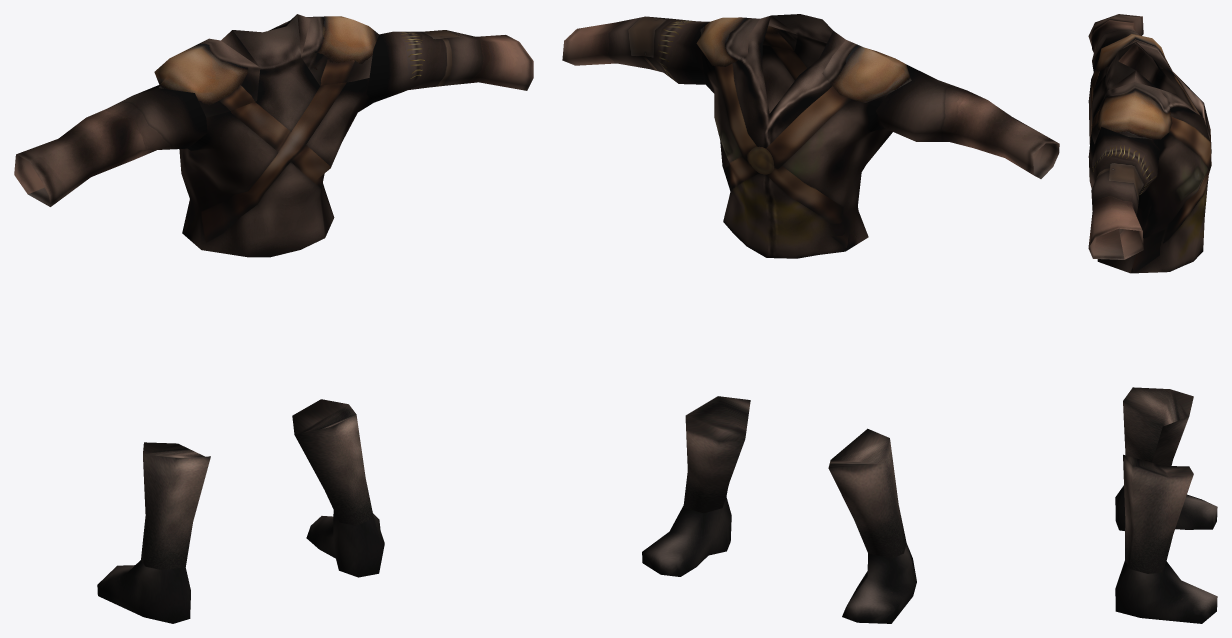
The model's file is Armor_male_cmbleatherJacket.obj.
3 views of the same model, side by side, from view 1: azimuth 30°, elevation 25°; view 2: azimuth 150°, elevation 25°; view 3: azimuth 270°, elevation 25° (orthographic). The views are drawn at different scales.
Parts seen in each view (by area): view 1: cljacket, clboot_rig, clboot_lef; view 2: cljacket, clboot_rig, clboot_lef; view 3: cljacket, clboot_lef, clboot_rig.
Boxes of the visible parts, x1,y1,x2,y2 form: cljacket: (14, 14, 533, 257); clboot_rig: (97, 442, 210, 623); clboot_lef: (292, 399, 384, 577); cljacket: (562, 14, 1059, 258); clboot_rig: (828, 428, 916, 623); clboot_lef: (642, 396, 750, 576); cljacket: (1088, 14, 1211, 273); clboot_lef: (1115, 454, 1217, 623); clboot_rig: (1115, 387, 1217, 530).
Bounding box in the file's own units: 79.43 × 87.73 × 20.08.
